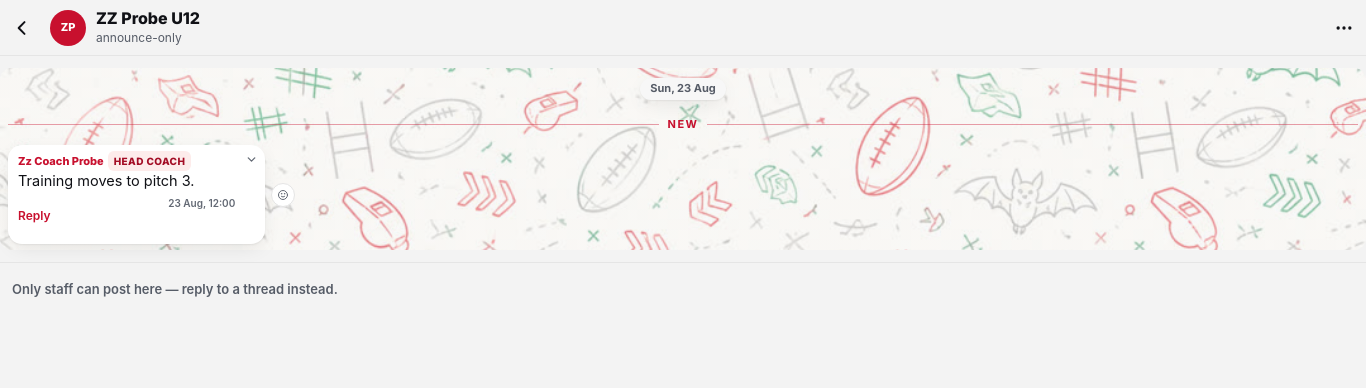
Test case: Chat — announce-only › ⚠️ shows a visible Reply under an unanswered post while announce-only is on
The width and height of the screenshot is (1366, 388).
Expected: the element with test id "message-row" is shown, [8,145,295,244]
Click the button with test id "reply-affordance" at x=34, y=216, box [18,194,51,238]
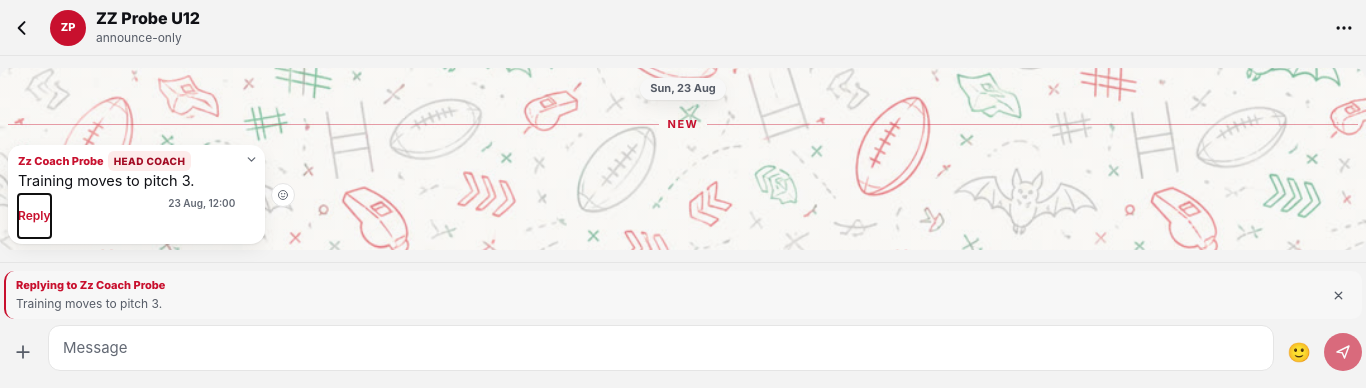
Now the element with test id "quote-preview" shows "Zz Coach Probe", box [80,278,165,292]
Now the text box labelled "Message" is shown, box [48,326,1274,372]
